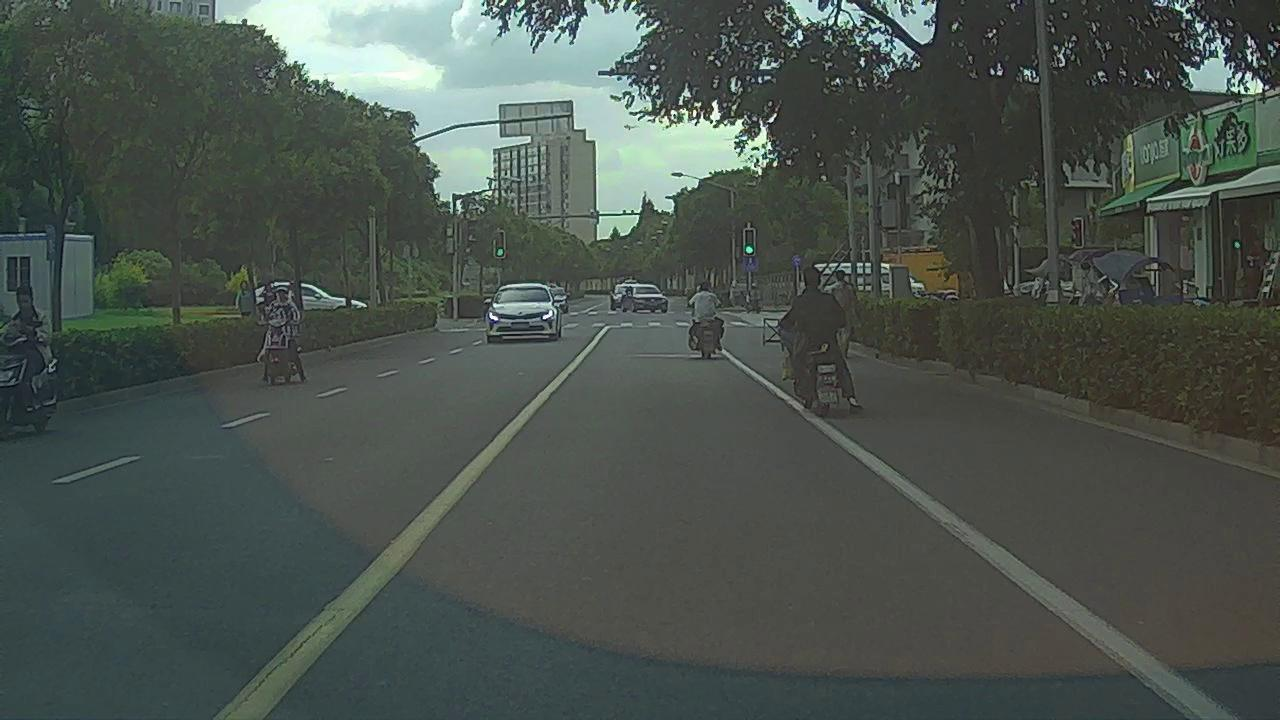traffic_light: (745, 229, 756, 255), (496, 231, 505, 257)
